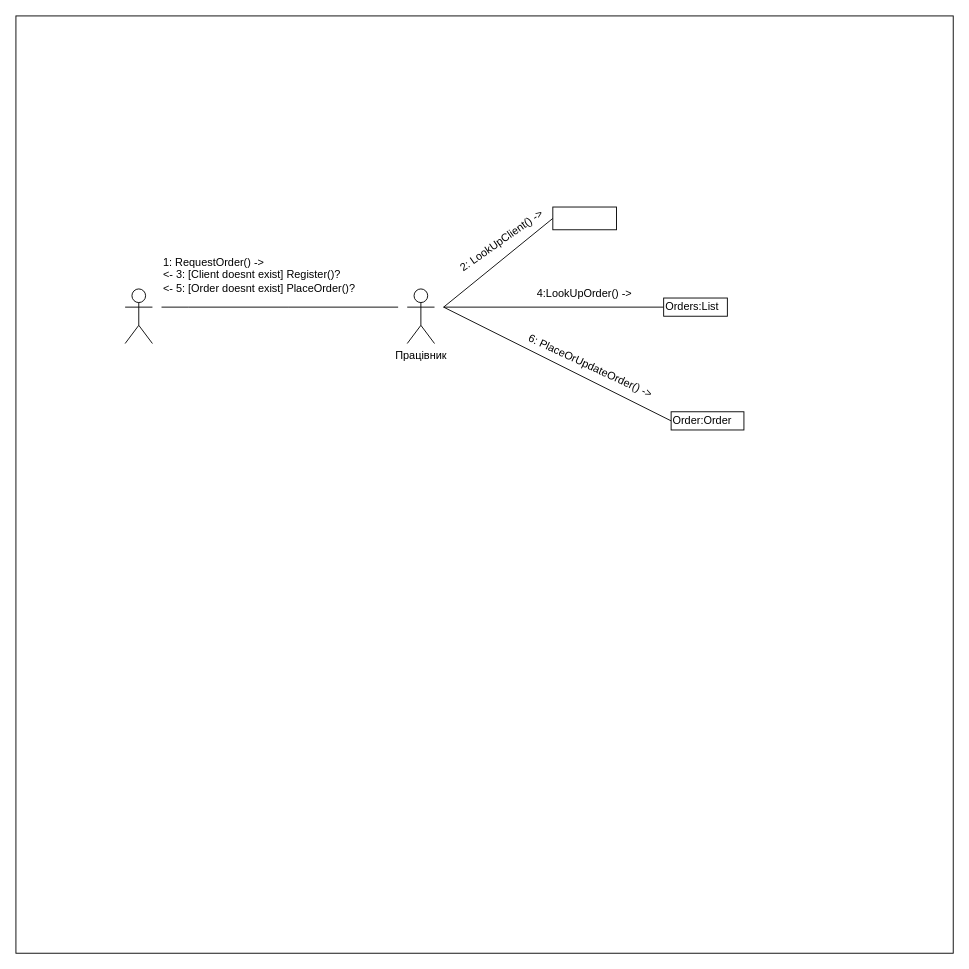
This 969x969 diagram has some shape labels left out. The shapes that lost their labels are listed below. From the top down, each one's centre as x and y in pixels, then its label:
At [584,218]: "Clients:List".
At [138,316]: "Клієнт".
